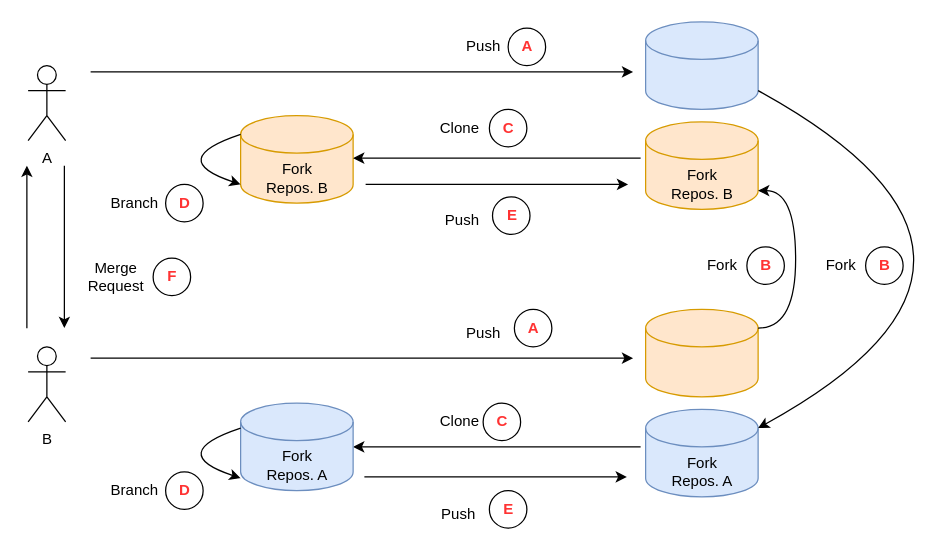
This 935x550 diagram has some shape labels left out. The box of each missing label's shape, as (x1, y1, x2, y2) in pixels:
Repos. A: (644, 21, 758, 109)
Repos. B: (644, 308, 758, 397)
